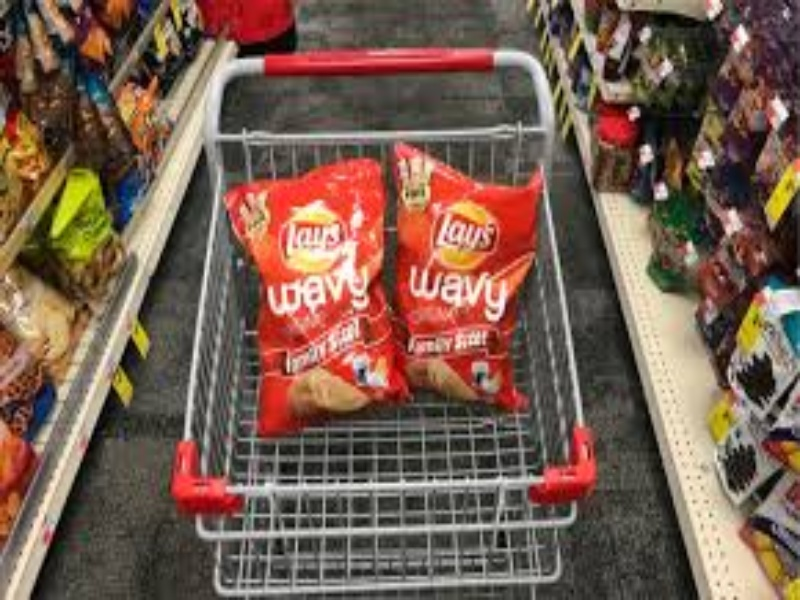lays-large: (234, 180, 406, 413), (394, 130, 522, 409)
